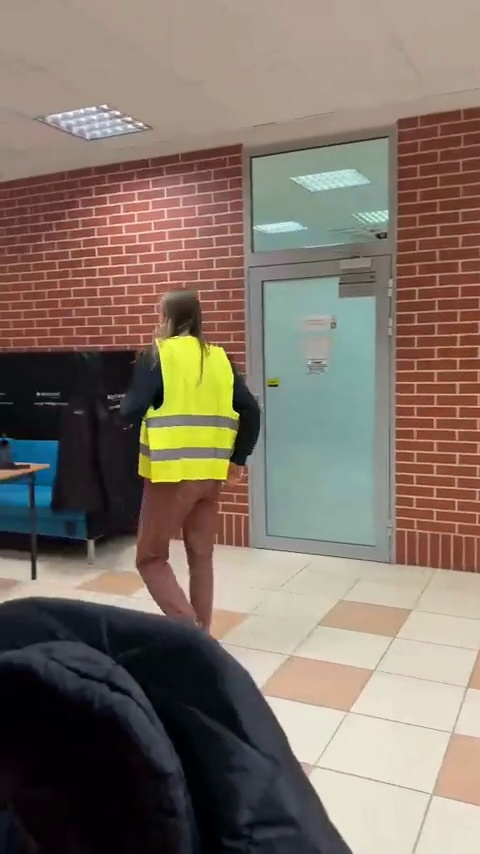vest: (118, 288, 260, 645)
